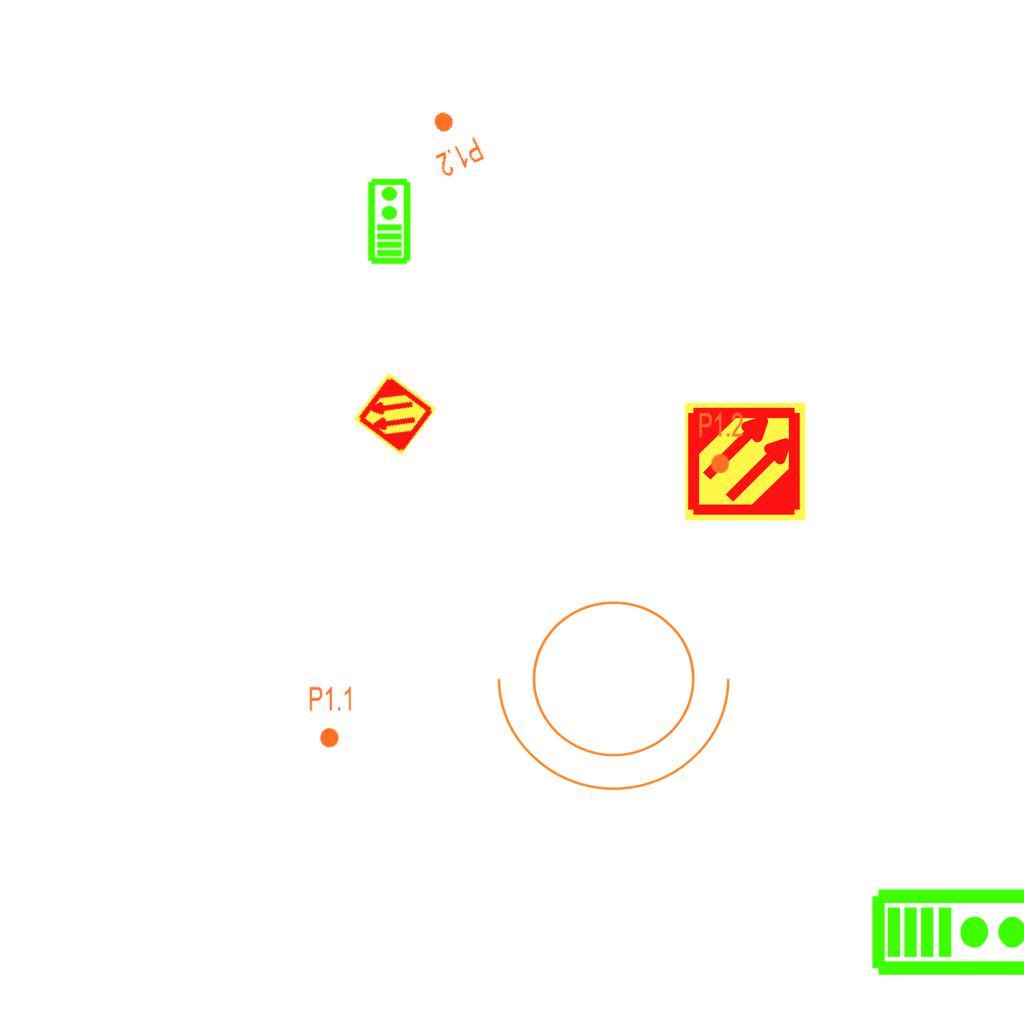ASR_Ansaugrauchmelder: (683, 399, 808, 524), (351, 370, 439, 458)
Downlight_LED_Einbauleuchten_Flur: (417, 102, 487, 180), (308, 685, 354, 749), (698, 411, 744, 475)
Gegensprechanlage_mit_Video: (870, 883, 1024, 978), (365, 177, 412, 265)
Scheinwerfer_fuer_Alarmbeleuchtung: (488, 576, 752, 801)
